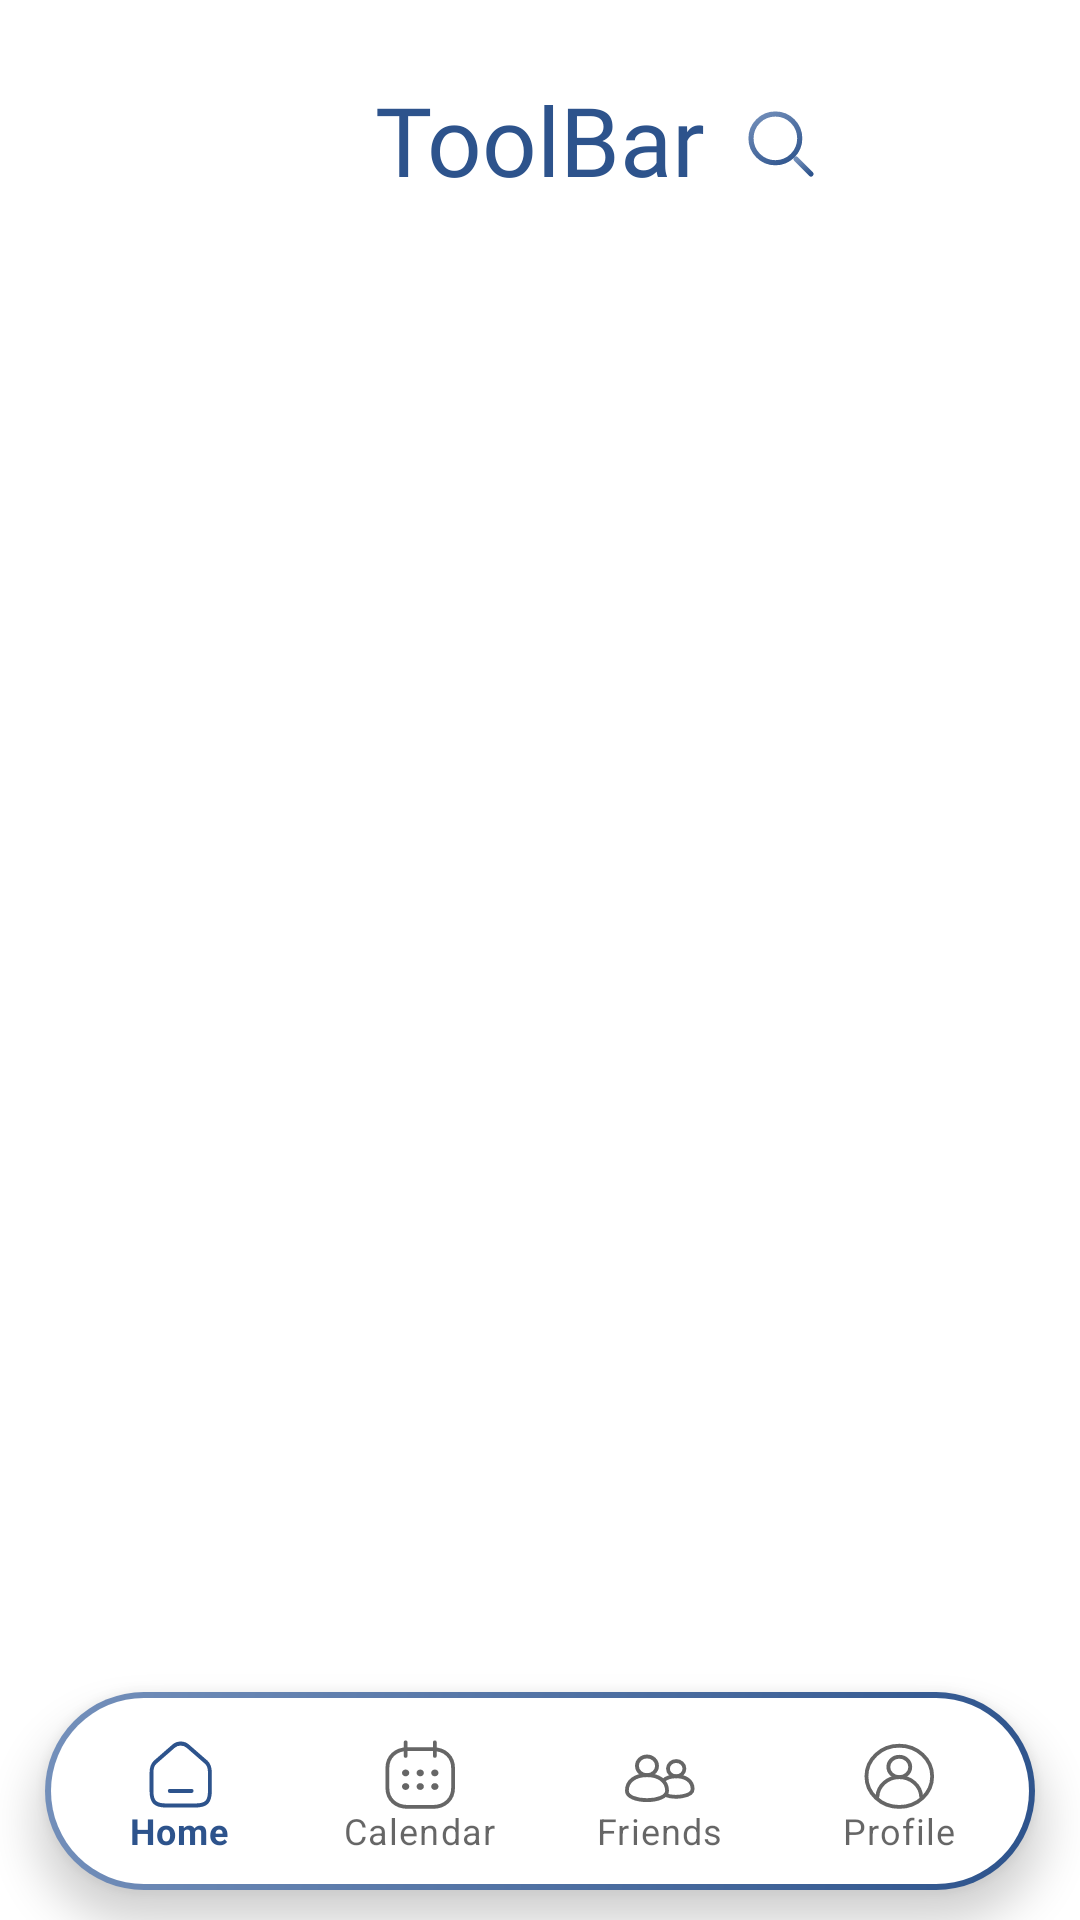

Locate icon controls on the screen. Image size 1080w x 1920h, boxes as (x1, y1, x2, y2).
search: (748, 111, 814, 177)
